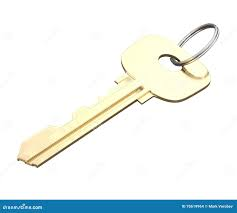key: (12, 21, 223, 168)
